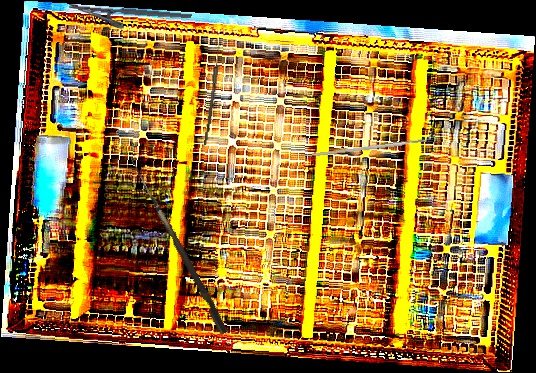Hook Surgical: (121, 156, 232, 336)
Needle Holder: (67, 2, 192, 36)
Scalpel Handle: (302, 138, 428, 159)
Surgical Spoon: (203, 37, 223, 146)
